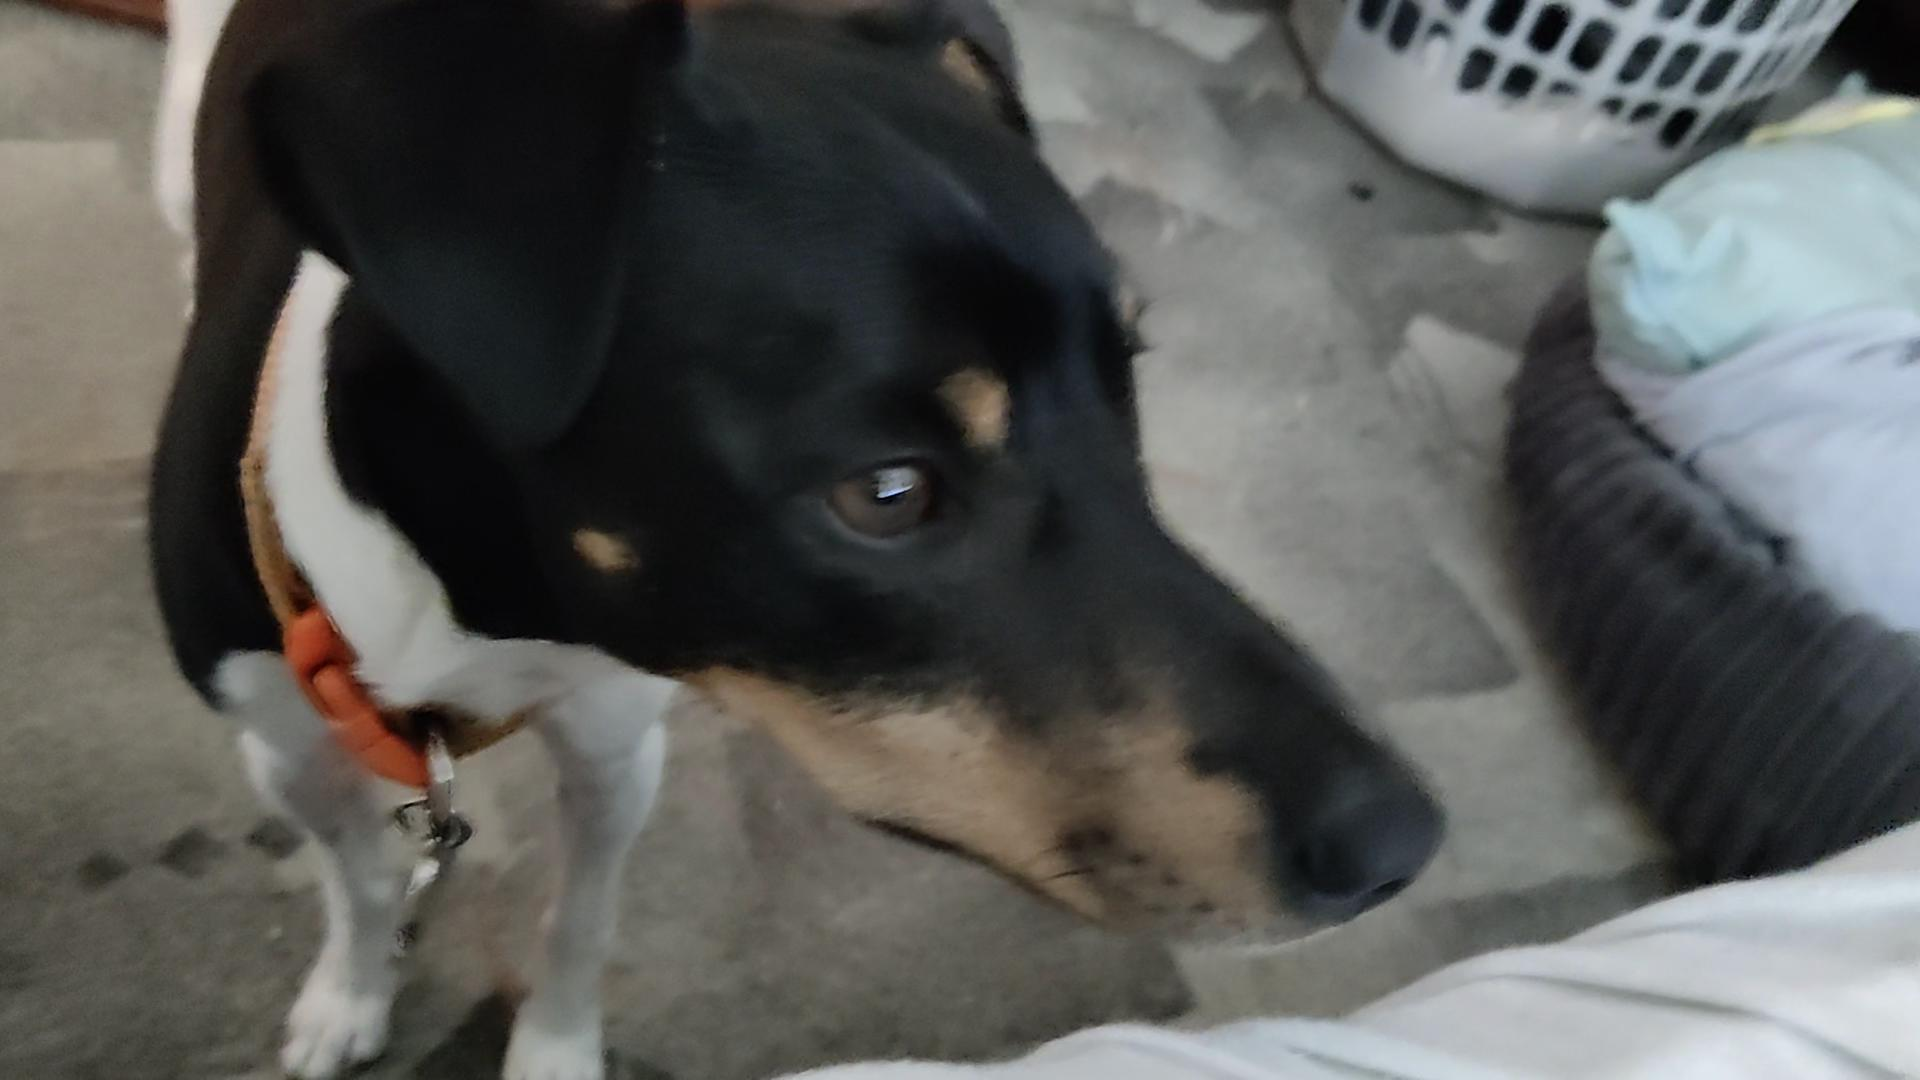Dog: (140, 0, 1462, 1080)
